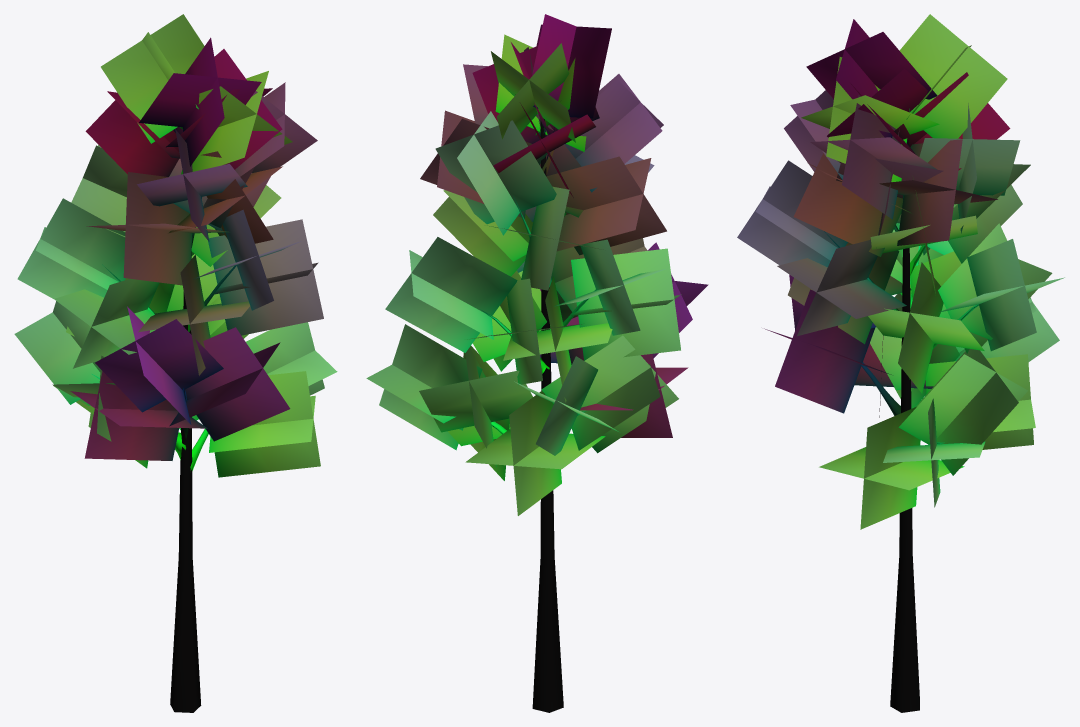
File: URP_P5_Tree_1_LOD_3.fbx
3 renders of one model, left to right at view 1: azimuth 30°, elevation 25°; view 2: azimuth 150°, elevation 25°; view 3: azimuth 270°, elevation 25°, orthographic.
Parts seen in each view (by area): view 1: Tree_1_LOD_3; view 2: Tree_1_LOD_3; view 3: Tree_1_LOD_3.
Boxes of the visible parts, bbox=[...] form: Tree_1_LOD_3: bbox=[14, 14, 337, 712]; Tree_1_LOD_3: bbox=[366, 14, 708, 712]; Tree_1_LOD_3: bbox=[737, 14, 1064, 712].
Size of the model in its own units: 273 by 612 by 268.
